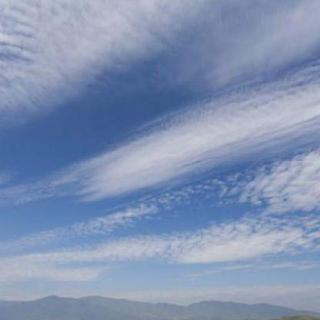Altocumulus: (1, 0, 320, 291)
